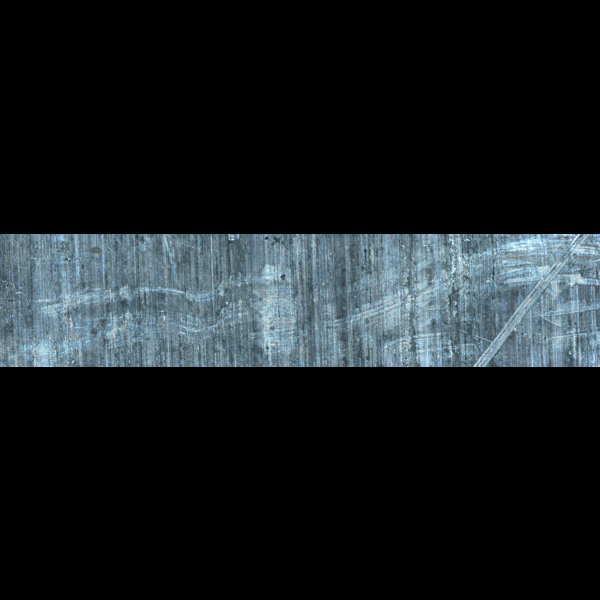d: (465, 239, 595, 366), (29, 287, 297, 348), (326, 274, 462, 366), (240, 256, 304, 353)
